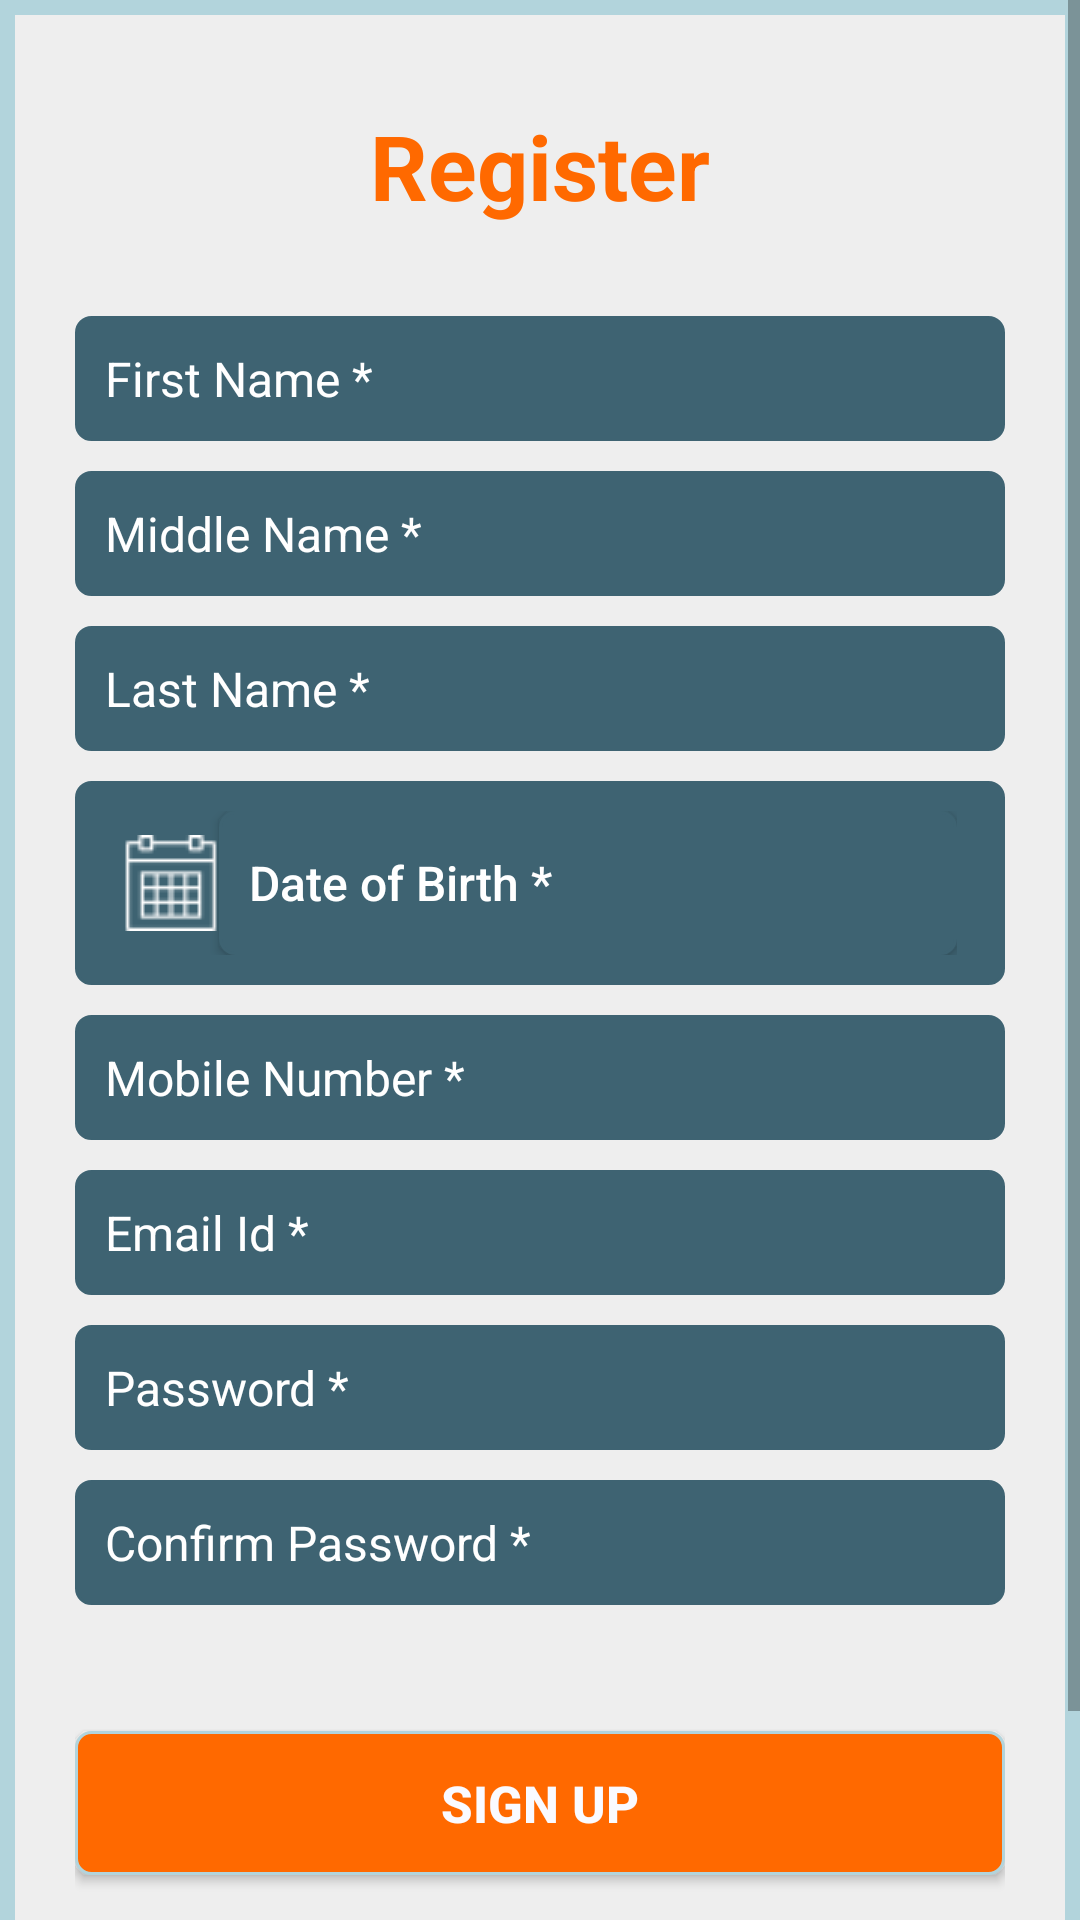

Locate icon controls on the screen. Image size 1080w x 1920h, boxes as (x1=x1, y1=y1, x2=x2, y2=y2).
calendar: (x1=125, y1=835, x2=217, y2=931)
